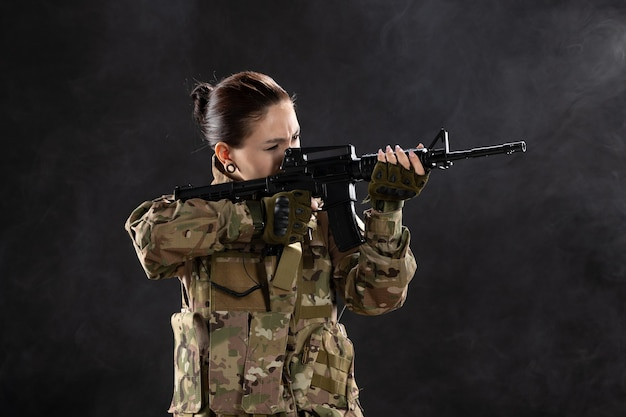gun: (177, 130, 528, 251)
